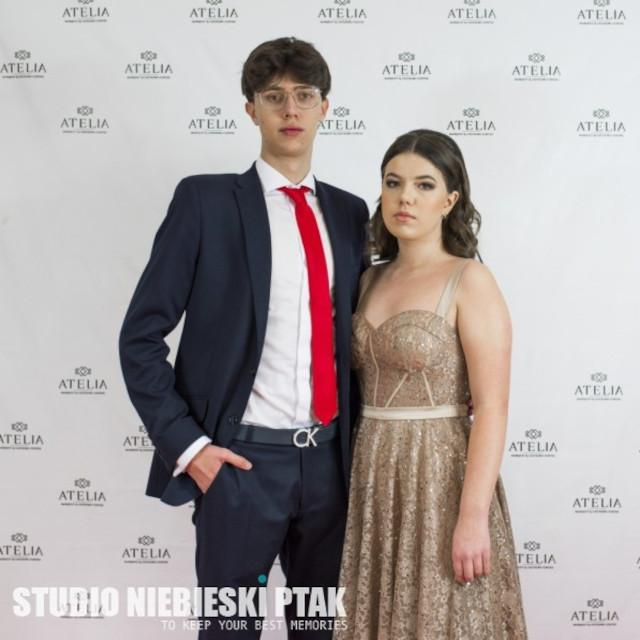kobieta: (341, 125, 511, 640)
mezczyzna: (120, 35, 372, 640)
